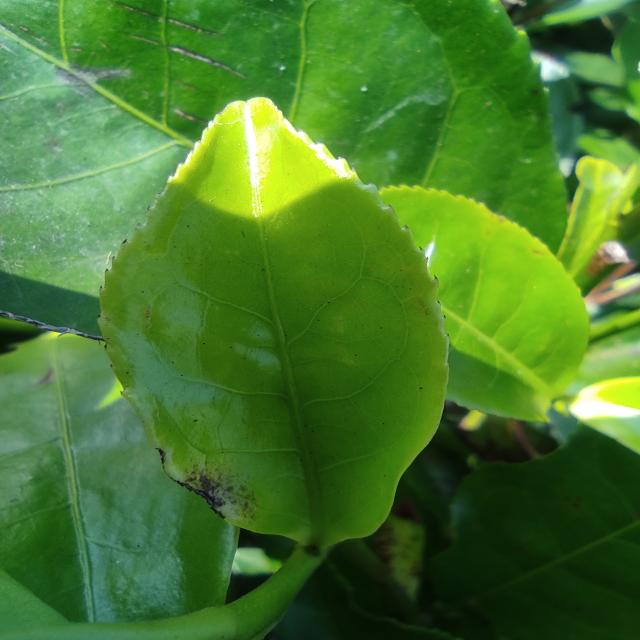Category C(4-7 days): (74, 73, 494, 576)
